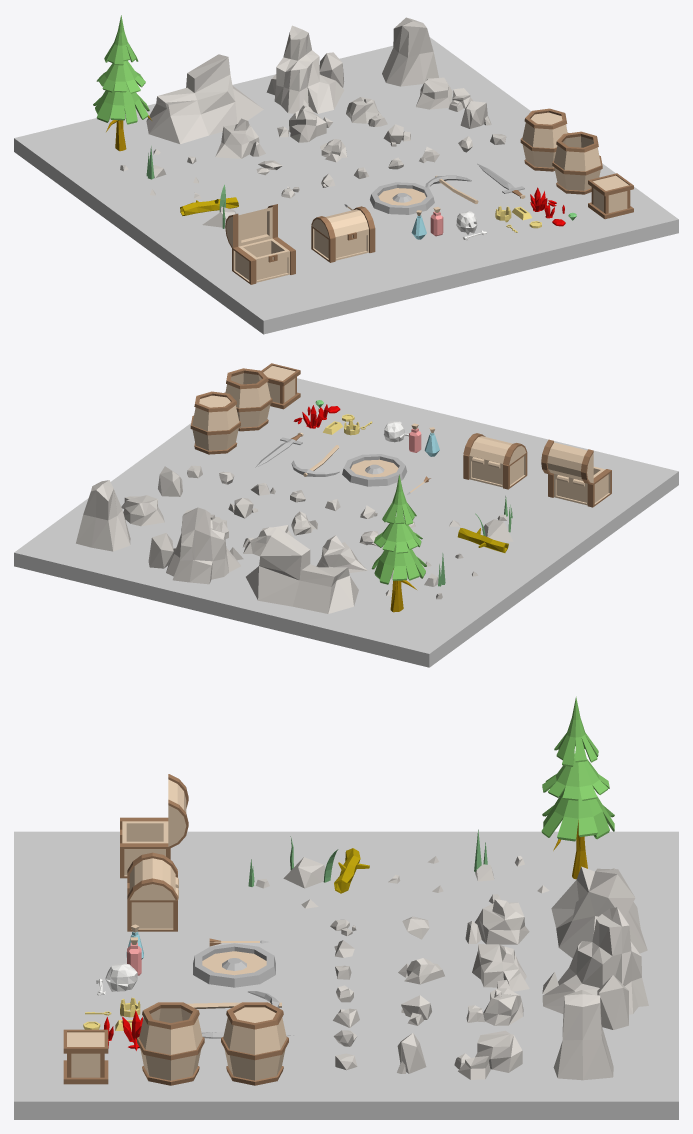
The model's file is Stones And Buried Treasure Pack 3D Model2.fbx.
3 renders of one model, top to bottom at view 1: azimuth 30°, elevation 25°; view 2: azimuth 150°, elevation 25°; view 3: azimuth 270°, elevation 25°, orthographic. The views are drawn at different scales.
Parts seen in each view (by area): view 1: Ground, Stone_1, Stone_2, Tree_Fir, Chest_Clos, Stone_3, Barrel_Ope, Chest_Ope0, Barrel_Clo, Shield, Chest_Open, Box (+7 smaller); view 2: Ground, Stone_1, Stone_2, Tree_Fir, Chest_Clos, Stone_3, Barrel_Clo, Barrel_Ope, Shield, Chest_Open, Chest_Ope0, Rocks_and0 (+5 smaller); view 3: Ground, Stone_2, Tree_Fir, Stone_1, Barrel_Clo, Barrel_Ope, Stone_3, Chest_Clos, Shield, Box, Rocks_and0, Stone_7 (+10 smaller).
Boxes of the visible parts, box(x1,y1,x2,y2) form: Ground: box(14, 37, 678, 334); Stone_1: box(146, 54, 263, 144); Stone_2: box(266, 25, 344, 113); Tree_Fir: box(93, 15, 151, 151); Chest_Clos: box(311, 206, 375, 262); Stone_3: box(382, 17, 438, 86); Barrel_Ope: box(552, 131, 602, 194); Chest_Ope0: box(232, 237, 295, 284); Barrel_Clo: box(520, 108, 568, 171); Shield: box(370, 182, 434, 214); Chest_Open: box(225, 204, 277, 247); Box: box(588, 173, 633, 219); Ground: box(14, 378, 678, 667); Stone_1: box(246, 527, 358, 613); Stone_2: box(148, 507, 243, 584); Tree_Fir: box(371, 474, 426, 612); Chest_Clos: box(463, 433, 527, 489); Stone_3: box(76, 480, 130, 551); Barrel_Clo: box(190, 391, 240, 454); Barrel_Ope: box(224, 368, 272, 431); Shield: box(342, 454, 407, 486); Chest_Open: box(541, 439, 593, 484); Chest_Ope0: box(548, 466, 611, 507); Rocks_and0: box(449, 496, 513, 558); Ground: box(14, 831, 678, 1119); Stone_2: box(542, 907, 648, 1029); Tree_Fir: box(541, 696, 614, 879); Stone_1: box(551, 866, 647, 958); Barrel_Clo: box(221, 1002, 288, 1085); Barrel_Ope: box(137, 1002, 204, 1085); Stone_3: box(553, 990, 613, 1080); Chest_Clos: box(127, 852, 178, 931); Shield: box(193, 943, 275, 987); Box: box(63, 1029, 108, 1084); Rocks_and0: box(248, 836, 400, 908); Stone_7: box(454, 1030, 522, 1079).
Bounding box in the file's own units: 218 × 74.73 × 227.
